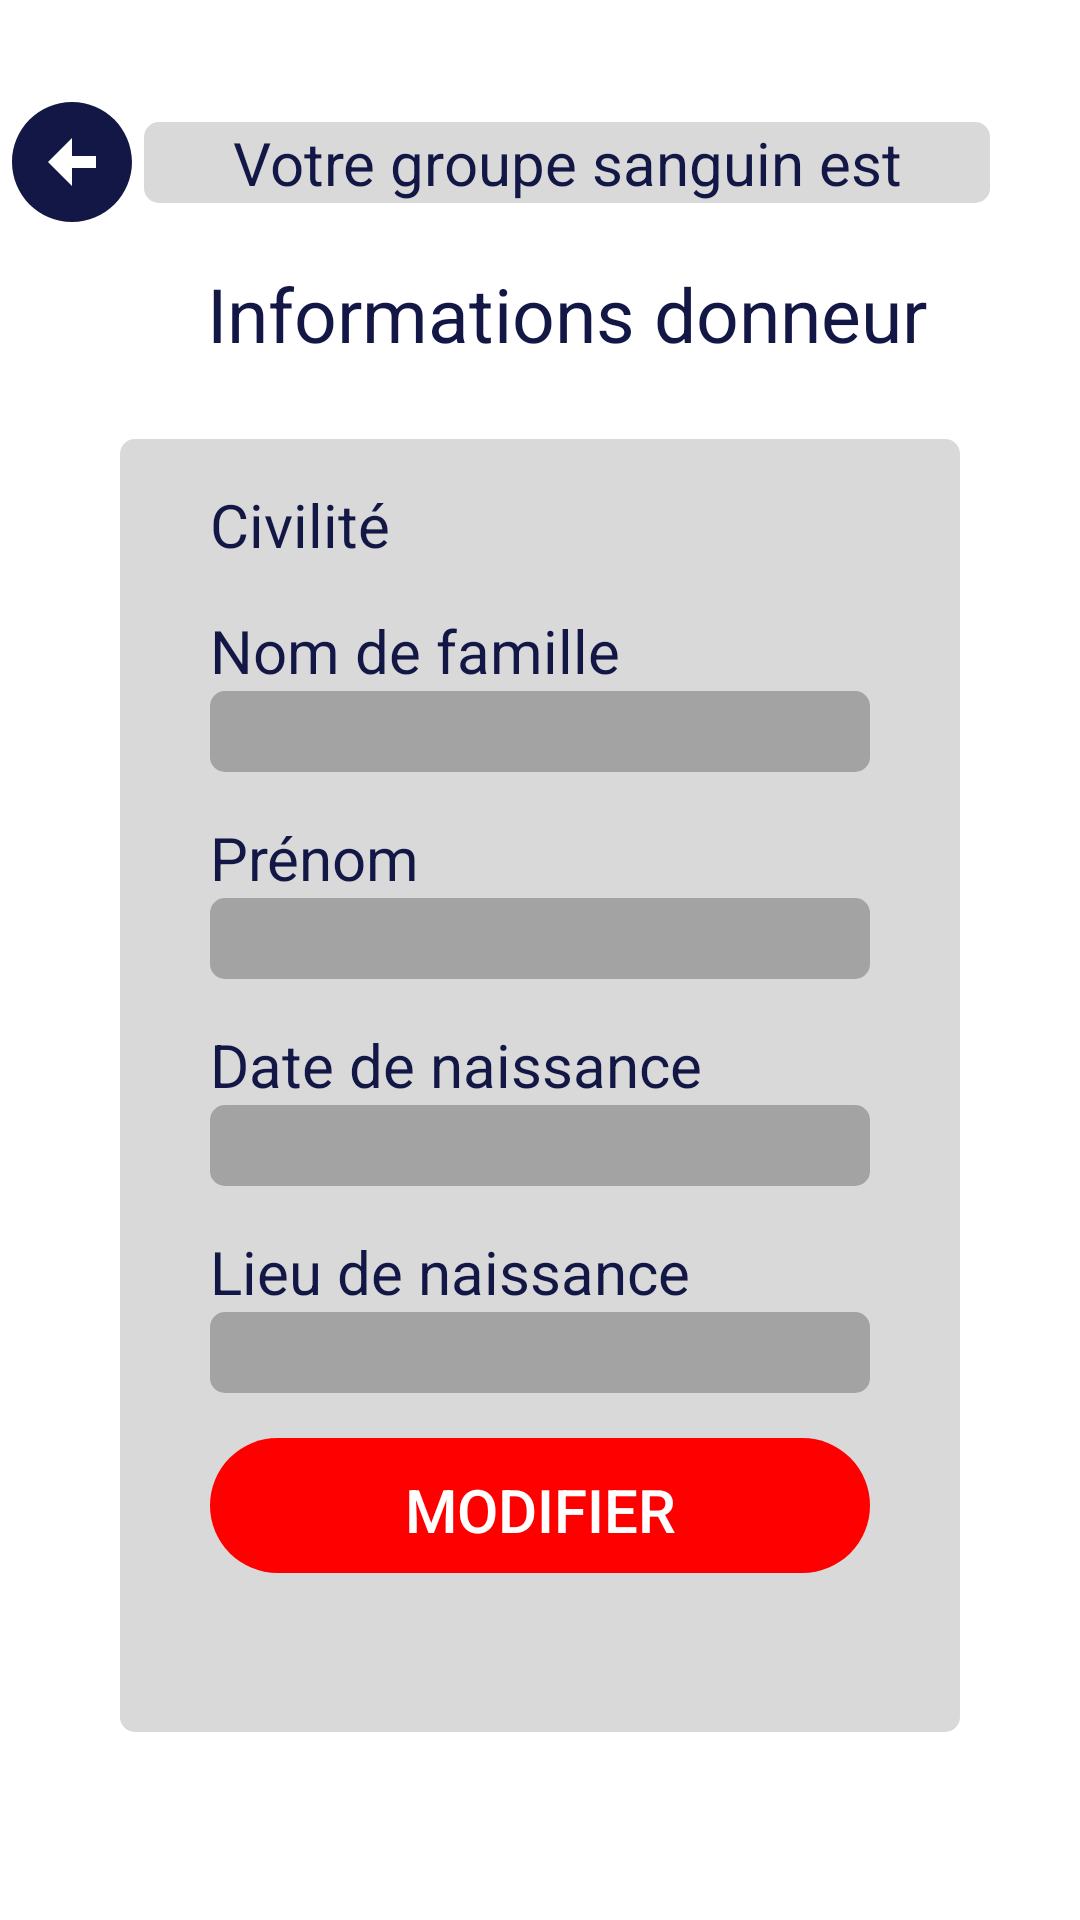

Screen size 1080w x 1920h. Icon name, then its center in pixels as (x,y):
arrow circle left: (72,162)
